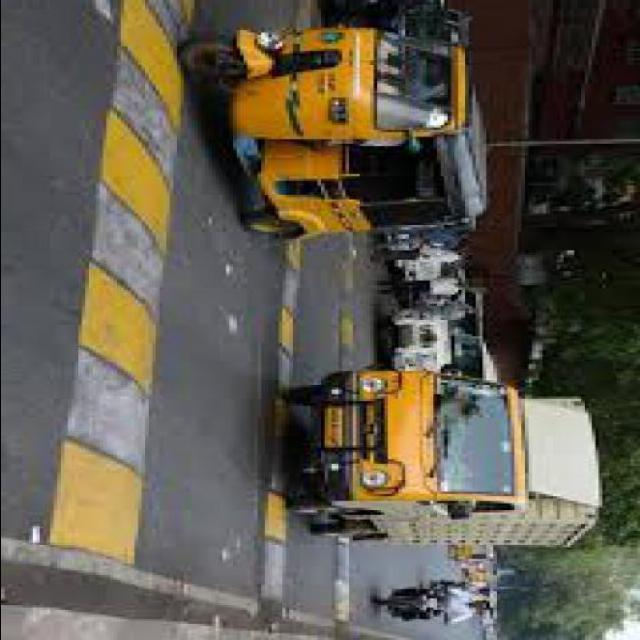Speed_Breaker: (43, 0, 196, 579), (48, 0, 200, 570), (261, 234, 308, 621), (265, 242, 295, 619), (329, 230, 365, 375), (323, 540, 360, 630), (338, 230, 353, 372), (333, 536, 355, 624)
